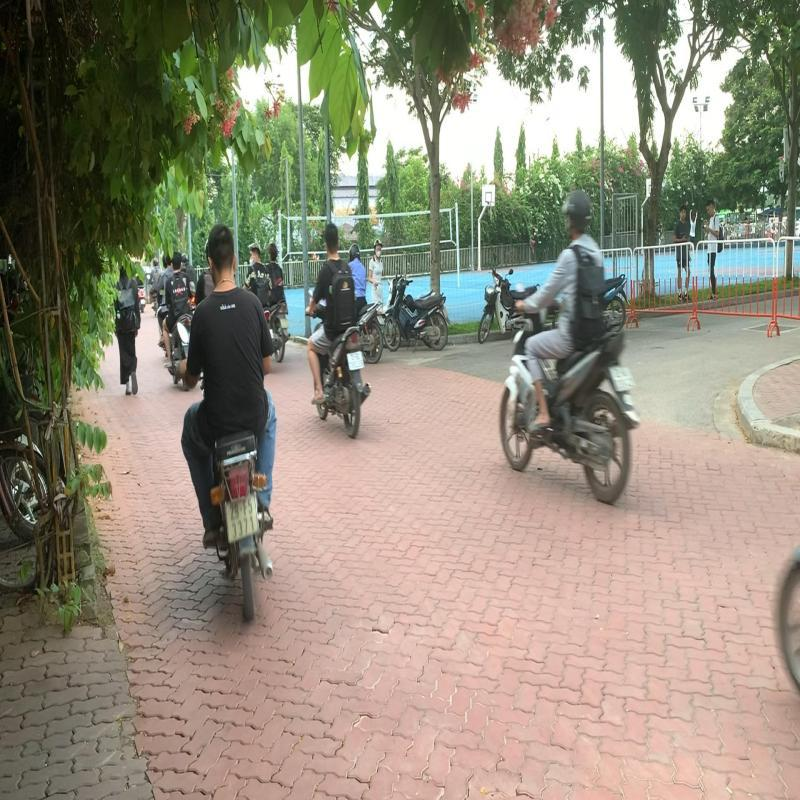licenseplate: (225, 496, 258, 540)
motorcyclist: (170, 222, 289, 624)
nohelmet: (206, 225, 235, 276)
